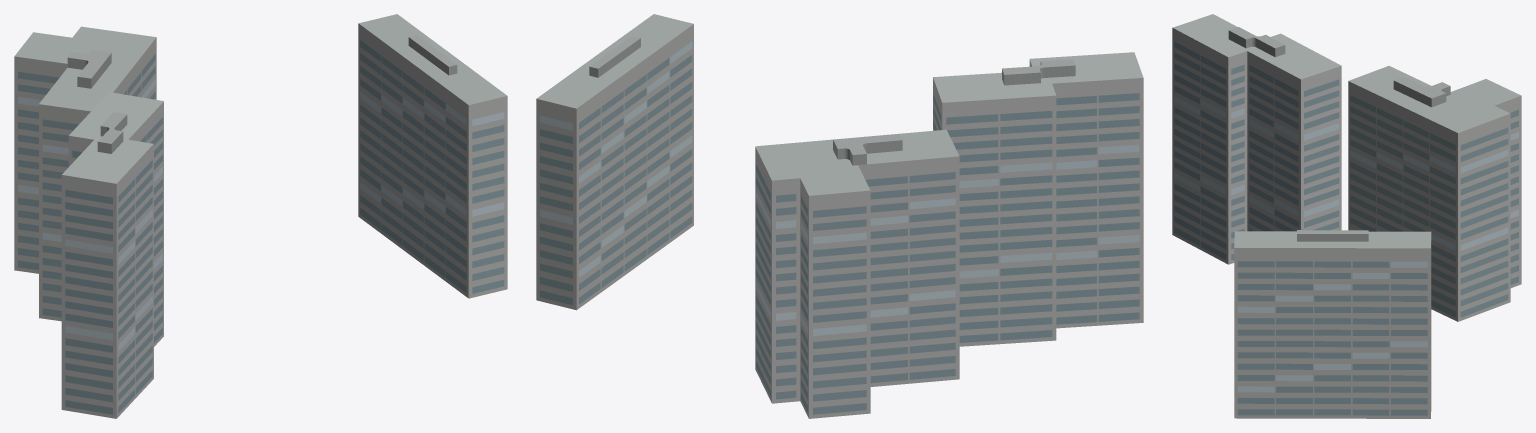
Rendered from apt-a13677807.glb.
3 views of the same model, side by side, from view 1: azimuth 30°, elevation 25°; view 2: azimuth 150°, elevation 25°; view 3: azimuth 270°, elevation 25° (orthographic). The views are drawn at different scales.
Parts seen in each view (by area): view 1: apt-a13677807; view 2: apt-a13677807; view 3: apt-a13677807.
Boxes of the visible parts, x1,y1,x2,y2 form: apt-a13677807: (14, 14, 507, 418); apt-a13677807: (536, 14, 1143, 418); apt-a13677807: (1172, 14, 1521, 418).
Bounding box in the file's own units: 114 × 58 × 84.8.
